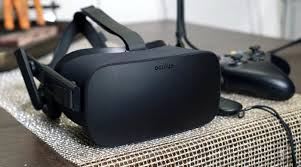oculus: (51, 42, 226, 151)
